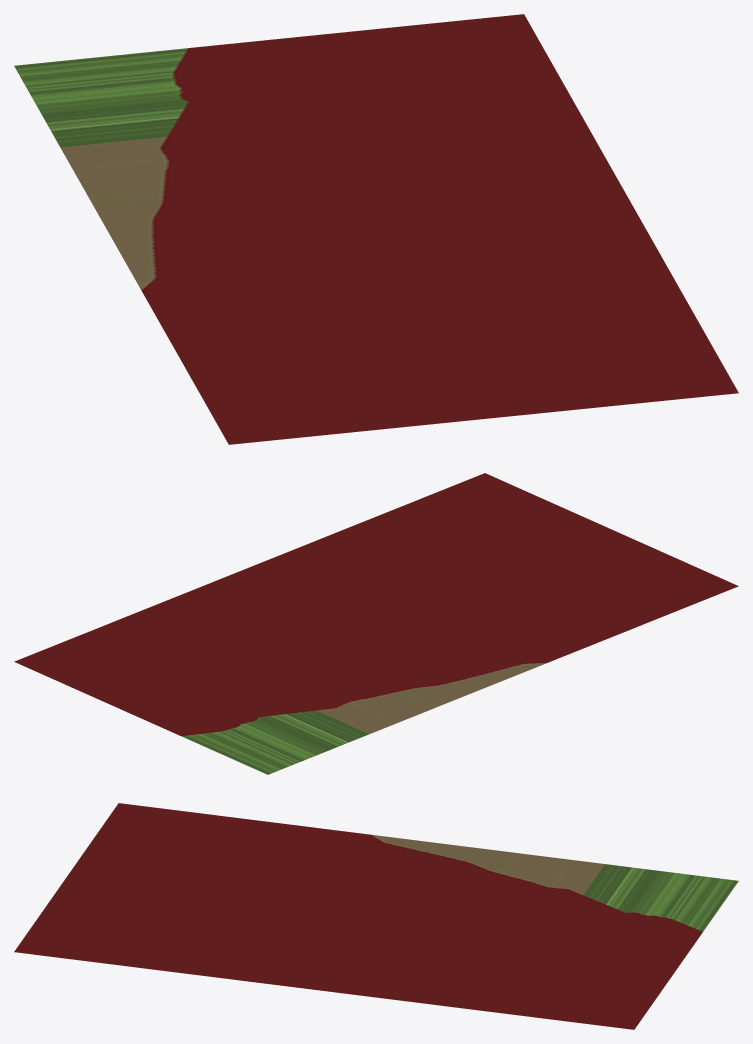
File: NvMingXingJia_02_XueJi_01.FBX
The picture shows the model from 3 angles, top to bottom: view 1: azimuth 30°, elevation 25°; view 2: azimuth 150°, elevation 25°; view 3: azimuth 270°, elevation 25°; orthographic projection. The views are drawn at different scales.
Parts seen in each view (by area): view 1: Plane008; view 2: Plane008; view 3: Plane008.
Boxes of the visible parts, left/top/right/bottom form: Plane008: left=14, top=14, right=738, bottom=444; Plane008: left=14, top=473, right=738, bottom=774; Plane008: left=14, top=803, right=738, bottom=1029.
Bounding box in the file's own units: 1957 × 0.000203 × 2644.
1 material, 1 textured.
